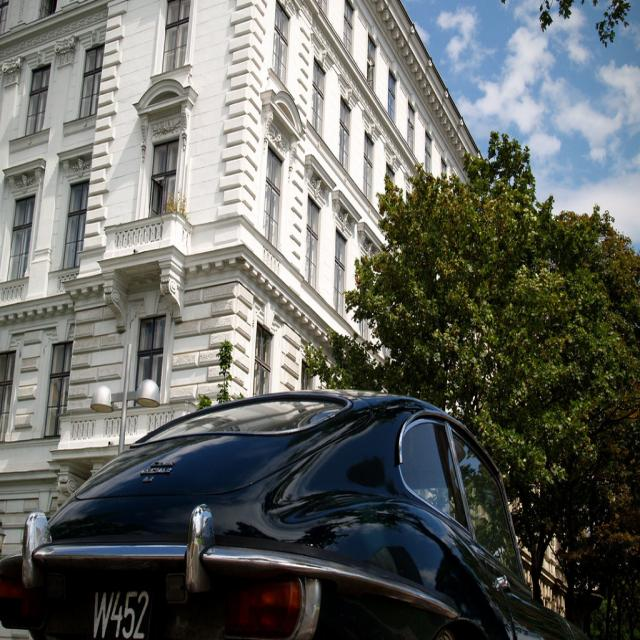other: (0, 386, 584, 639)
